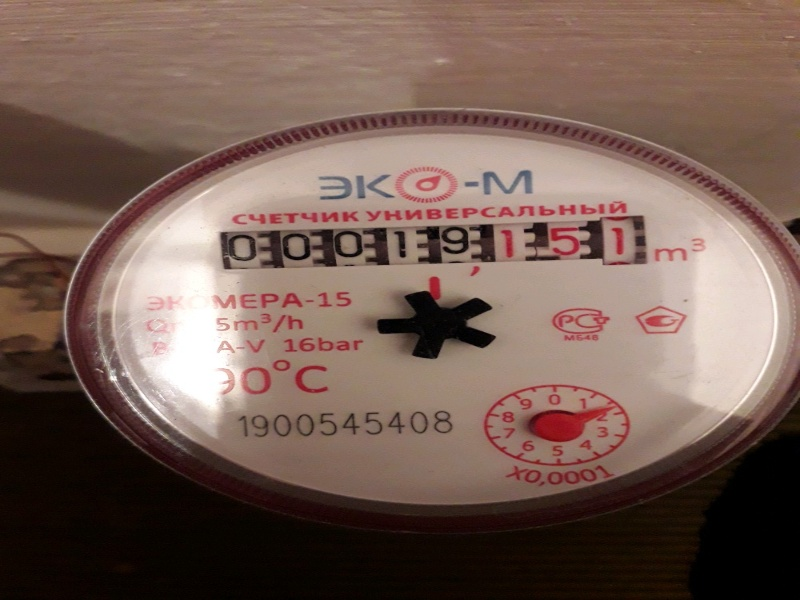meter: (207, 225, 644, 276)
